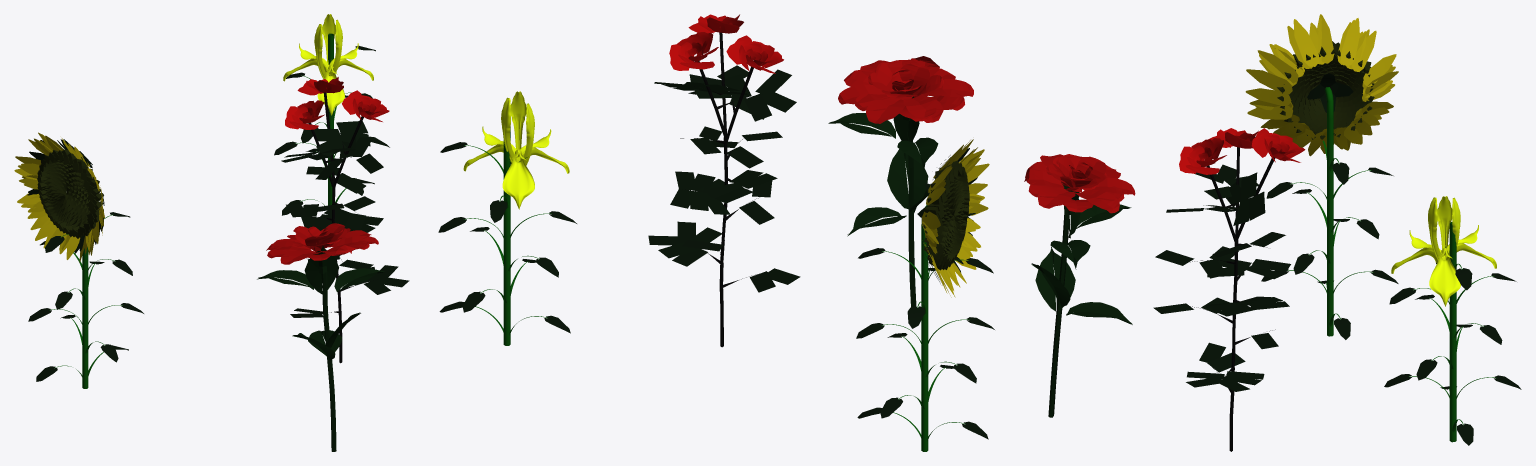
File: flowers.fbx
3 renders of one model, left to right at view 1: azimuth 30°, elevation 25°; view 2: azimuth 150°, elevation 25°; view 3: azimuth 270°, elevation 25°, orthographic. The views are drawn at different scales.
Parts seen in each view (by area): view 1: Rose01, Sunflow01, STEM.001, Sunflow01.003, STEM.002, Rose01.002, Sunflow01.002, Sunflow01.001, Rose01.001, Sunflow002, Sunflow002.001, leaf01; view 2: Rose01, STEM.002, STEM.001, Rose01.002, Sunflow01.003, Sunflow01, Sunflow01.002, Sunflow01.001, Sunflow002.001, Rose01.001, Sunflow002, leaf03 (+1 smaller); view 3: Sunflow01.003, Rose01, STEM.001, STEM.002, Sunflow01, Rose01.002, Sunflow01.002, Sunflow01.001, Sunflow002, Sunflow002.001, Rose01.001, leaf02 (+2 smaller).
Boxes of the visible parts, left/top/right/bottom form: Rose01: left=281, top=121, right=409, bottom=317; Sunflow01: left=37, top=149, right=103, bottom=238; STEM.001: left=257, top=245, right=384, bottom=451; Sunflow01.003: left=14, top=132, right=104, bottom=262; STEM.002: left=266, top=223, right=378, bottom=264; Rose01.002: left=285, top=77, right=389, bottom=129; Sunflow01.002: left=27, top=139, right=143, bottom=381; Sunflow01.001: left=49, top=214, right=123, bottom=388; Rose01.001: left=306, top=92, right=373, bottom=363; Sunflow002: left=274, top=46, right=389, bottom=215; Sunflow002.001: left=294, top=33, right=358, bottom=205; leaf01: left=317, top=65, right=344, bottom=115; Rose01: left=648, top=65, right=800, bottom=292; STEM.002: left=838, top=56, right=973, bottom=123; STEM.001: left=828, top=94, right=938, bottom=307; Rose01.002: left=669, top=14, right=783, bottom=73; Sunflow01.003: left=922, top=139, right=989, bottom=297; Sunflow01: left=923, top=160, right=969, bottom=270; Sunflow01.002: left=856, top=148, right=994, bottom=439; Sunflow01.001: left=881, top=205, right=969, bottom=451; Sunflow002.001: left=463, top=127, right=551, bottom=345; Rose01.001: left=680, top=32, right=759, bottom=347; Sunflow002: left=438, top=142, right=576, bottom=333; leaf03: left=502, top=149, right=534, bottom=209; Sunflow01.003: left=1245, top=14, right=1398, bottom=156; Rose01: left=1153, top=164, right=1290, bottom=391; STEM.001: left=1031, top=182, right=1132, bottom=417; STEM.002: left=1024, top=154, right=1135, bottom=213; Sunflow01: left=1277, top=41, right=1374, bottom=139; Rose01.002: left=1179, top=128, right=1305, bottom=174; Sunflow01.002: left=1261, top=73, right=1398, bottom=339; Sunflow01.001: left=1287, top=87, right=1373, bottom=336; Sunflow002: left=1384, top=268, right=1521, bottom=445; Sunflow002.001: left=1408, top=222, right=1496, bottom=442; Rose01.001: left=1190, top=147, right=1275, bottom=451; leaf02: left=1429, top=248, right=1460, bottom=306.
Bounding box in the file's own units: 10000 × 6816 × 9246.
